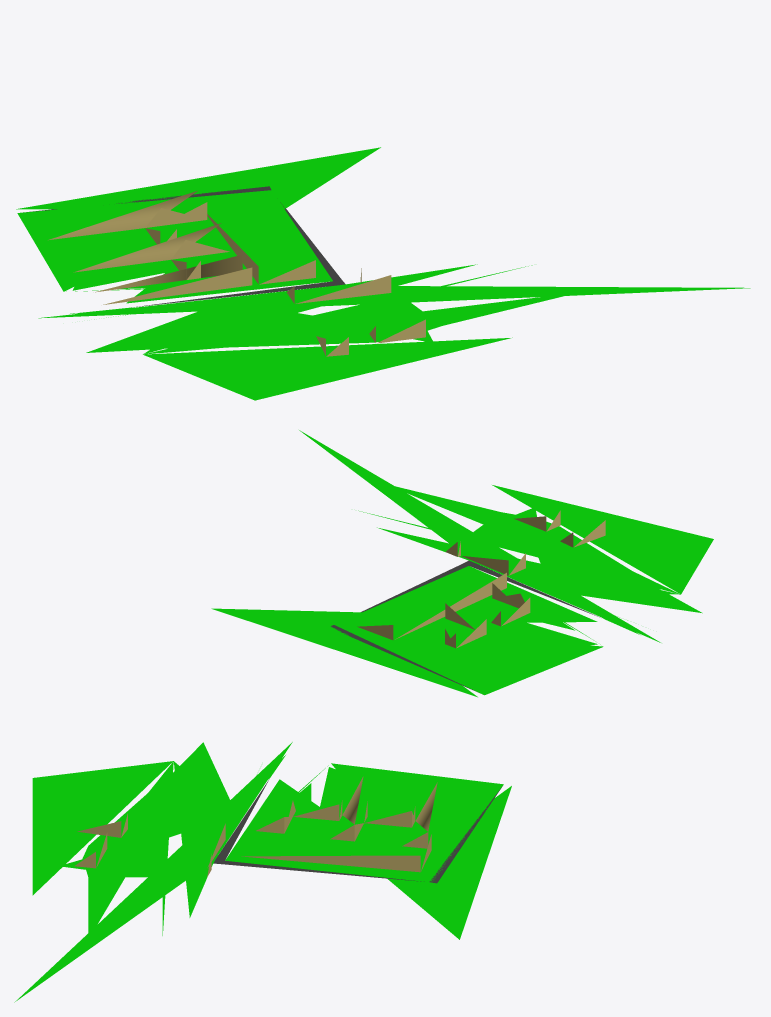
3 renders of one model, top to bottom at view 1: azimuth 30°, elevation 25°; view 2: azimuth 150°, elevation 25°; view 3: azimuth 270°, elevation 25°, orthographic. The views are drawn at different scales.
Bounding box in the file's own units: 264 × 7.5 × 300.
